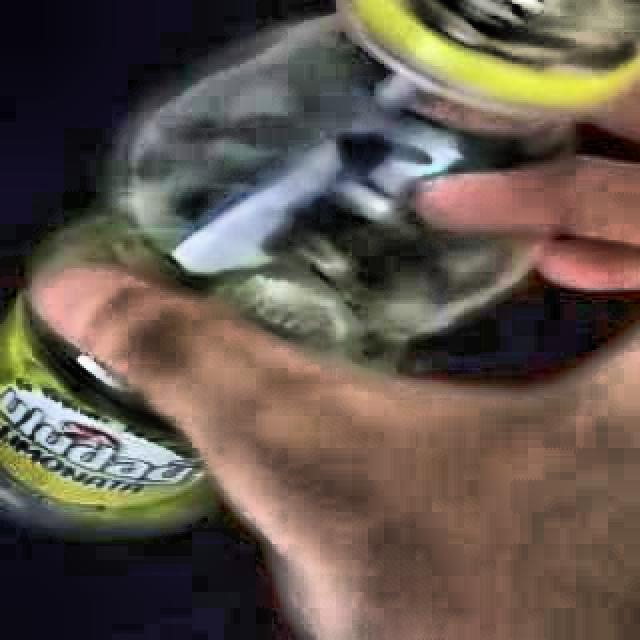plastic: (48, 0, 640, 369), (0, 309, 207, 522)
